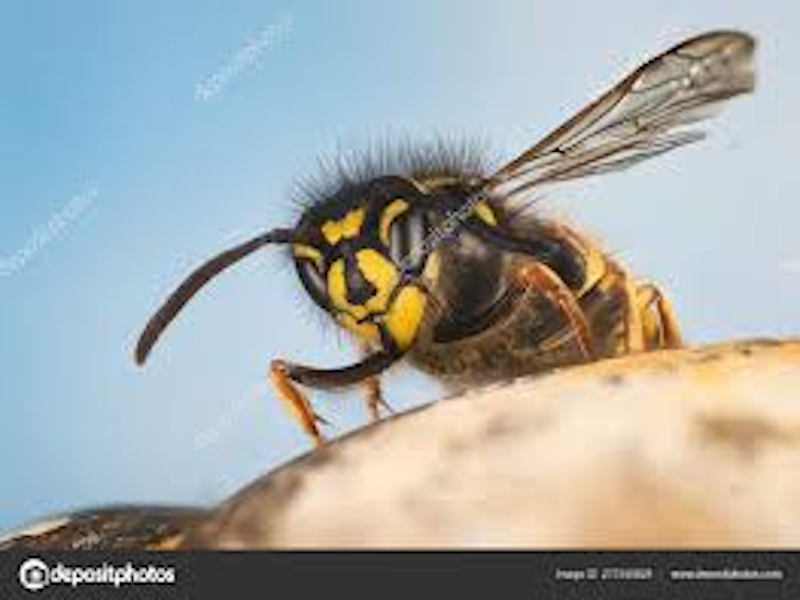chax: (126, 24, 773, 466)
